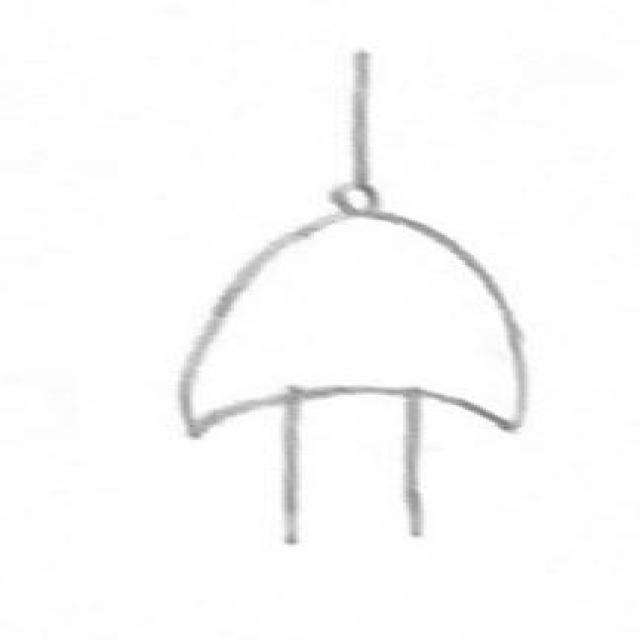NOR: (123, 155, 583, 454)
